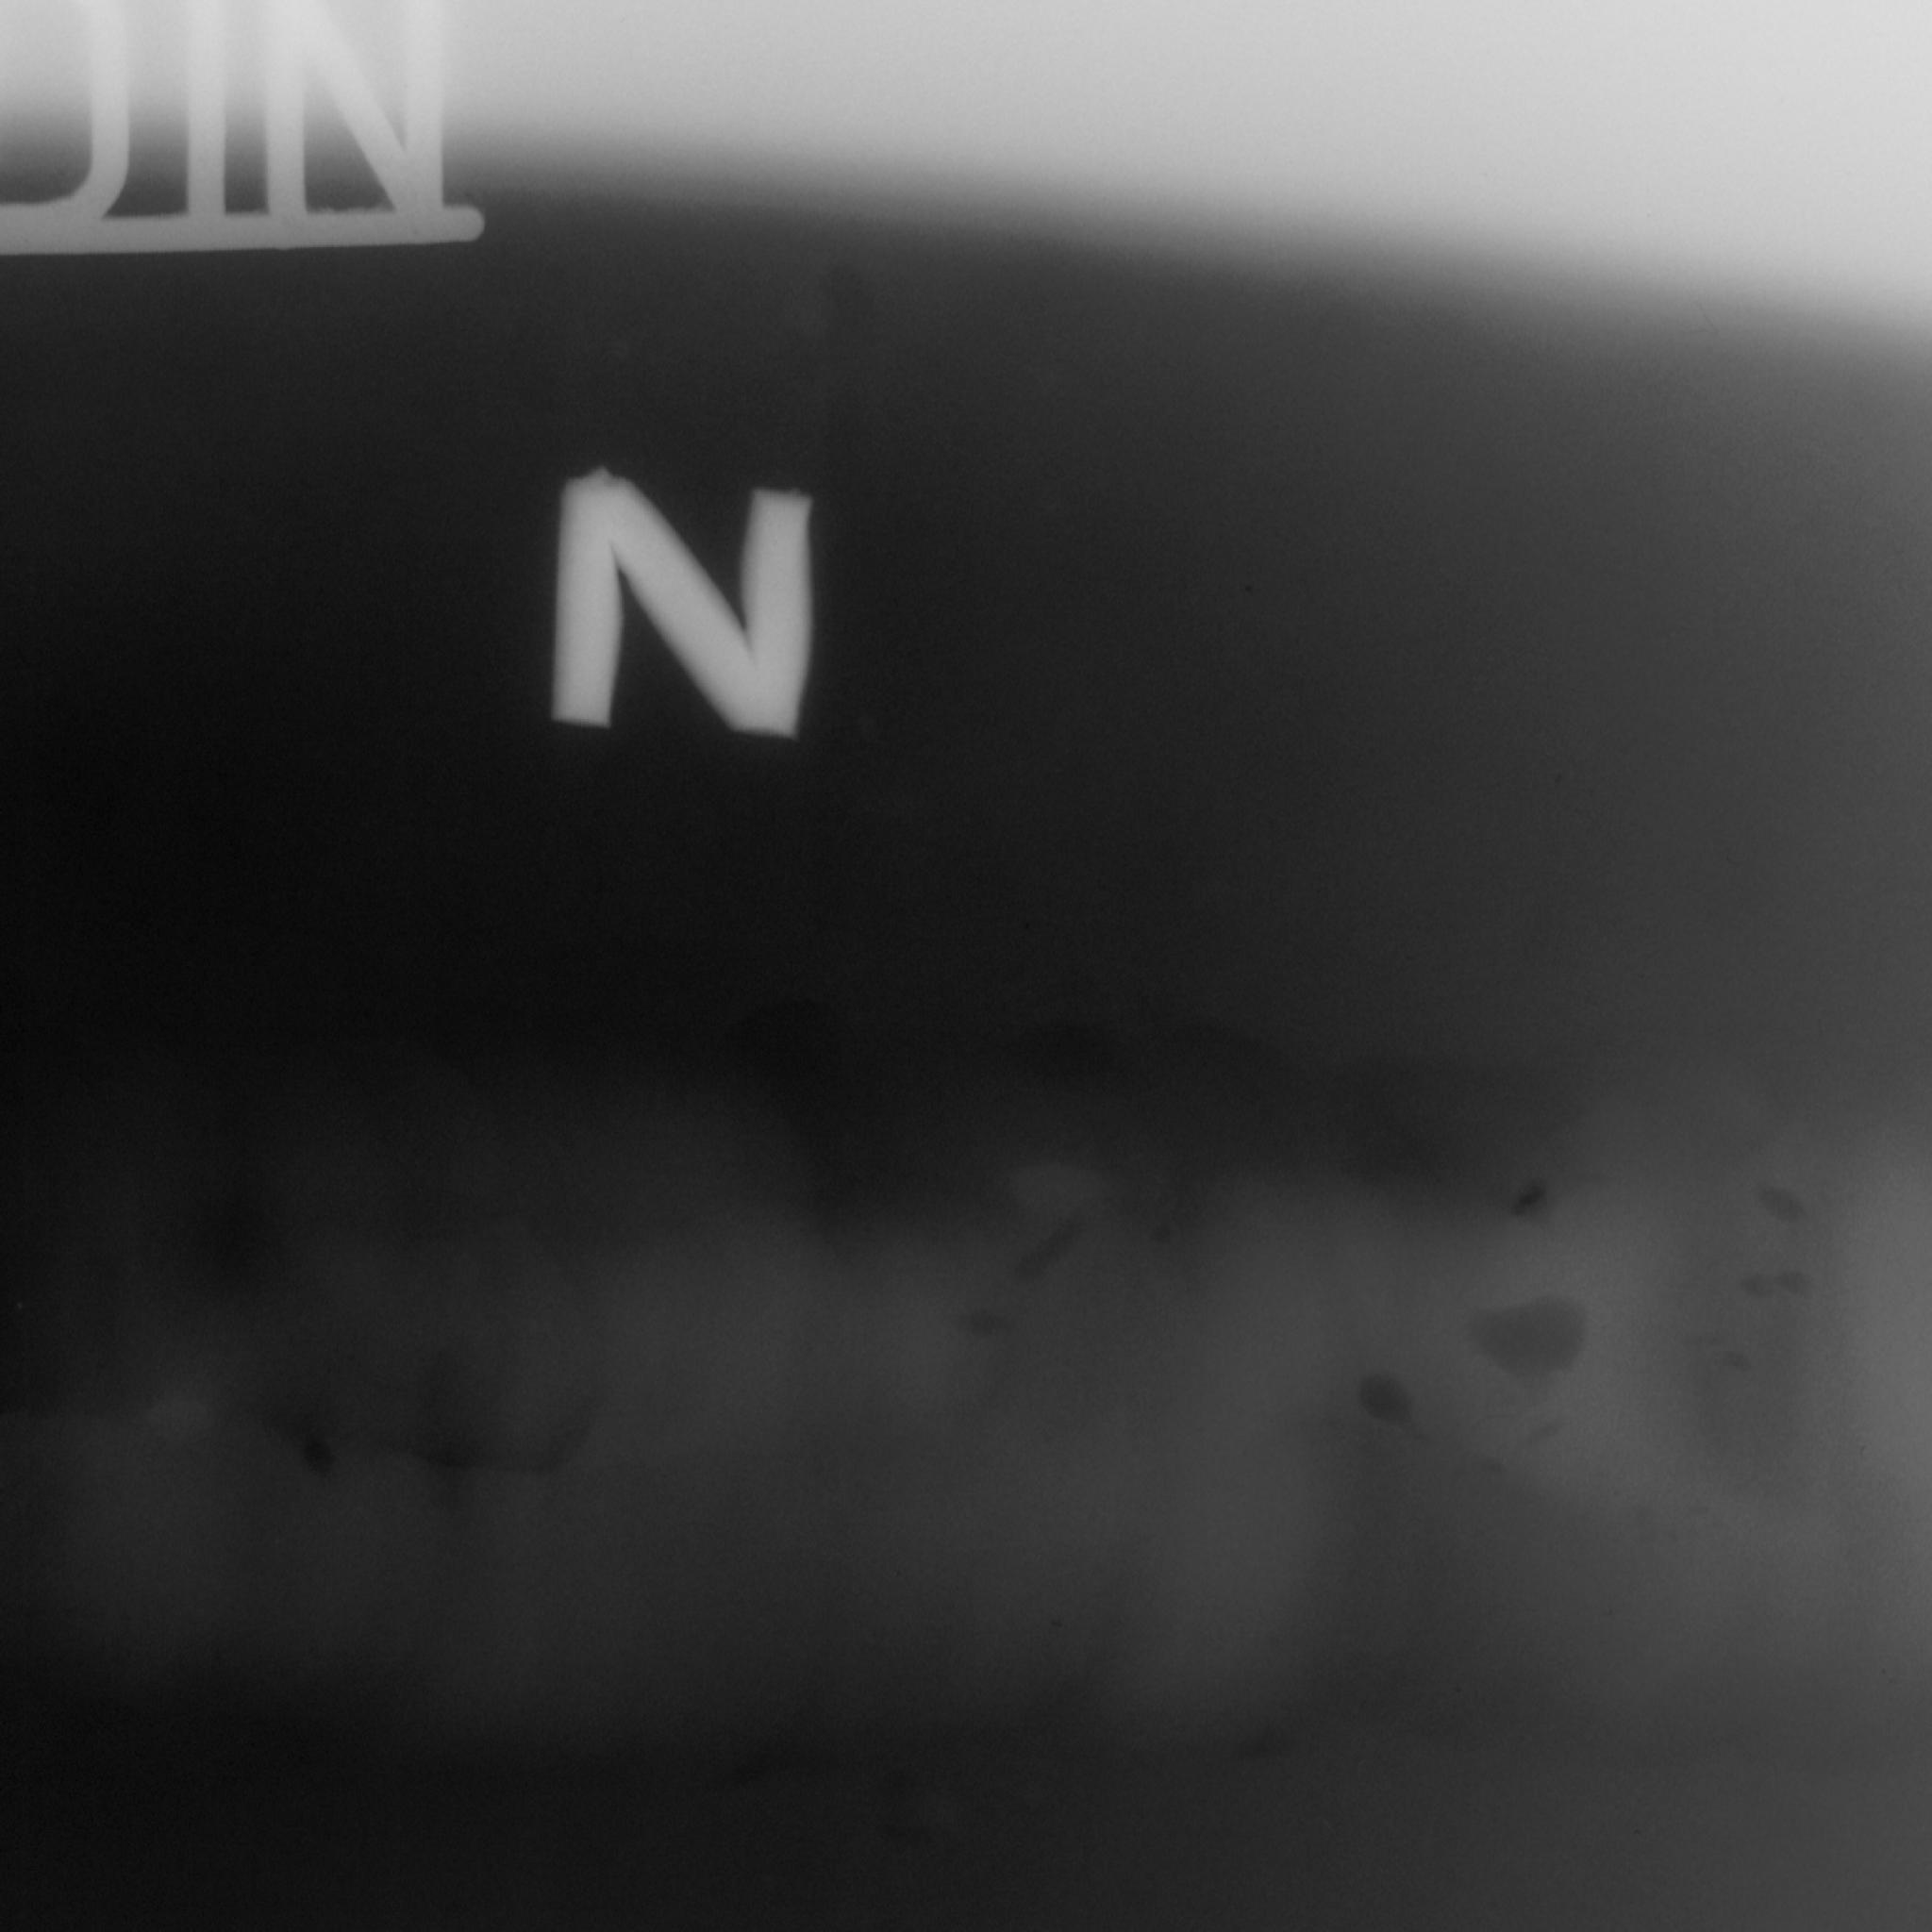IE: (71, 929, 1932, 1698)
